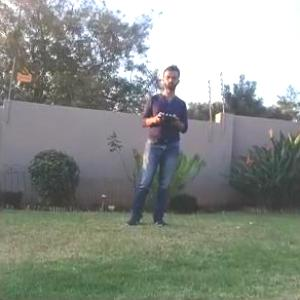follow: (118, 63, 189, 234)
